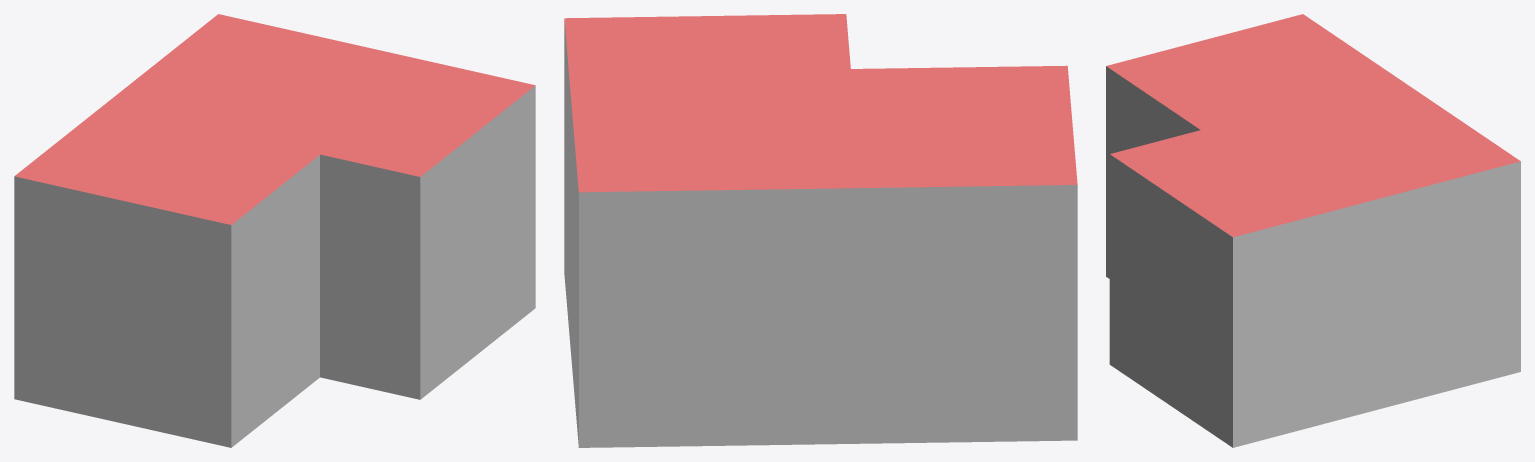
3 renders of one model, left to right at view 1: azimuth 30°, elevation 25°; view 2: azimuth 150°, elevation 25°; view 3: azimuth 270°, elevation 25°, orthographic. The views are drawn at different scales.
Visible parts, largest first — view 1: Z_UP; view 2: Z_UP; view 3: Z_UP.
Part boxes in pixels (box(x1,y1,x2,y2)): Z_UP: box(14, 14, 535, 447); Z_UP: box(564, 14, 1077, 447); Z_UP: box(1106, 14, 1520, 447).
Bounding box in the file's own units: 29.57 × 13 × 23.21.
